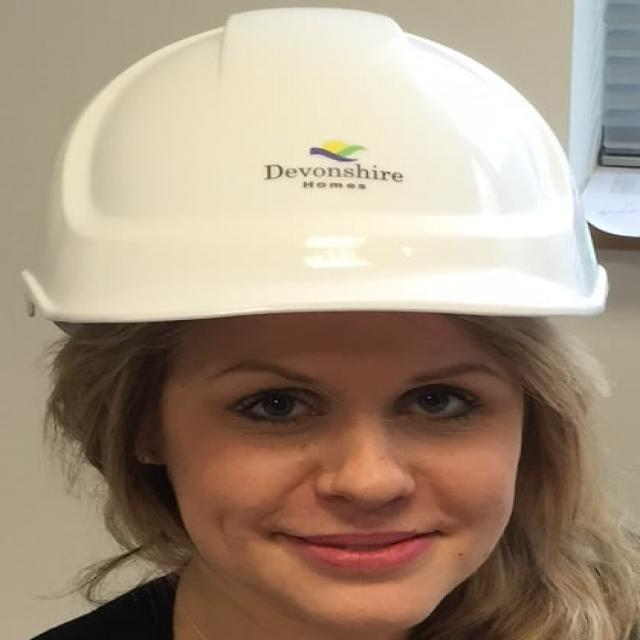Safety-Helmet: (17, 6, 606, 343)
